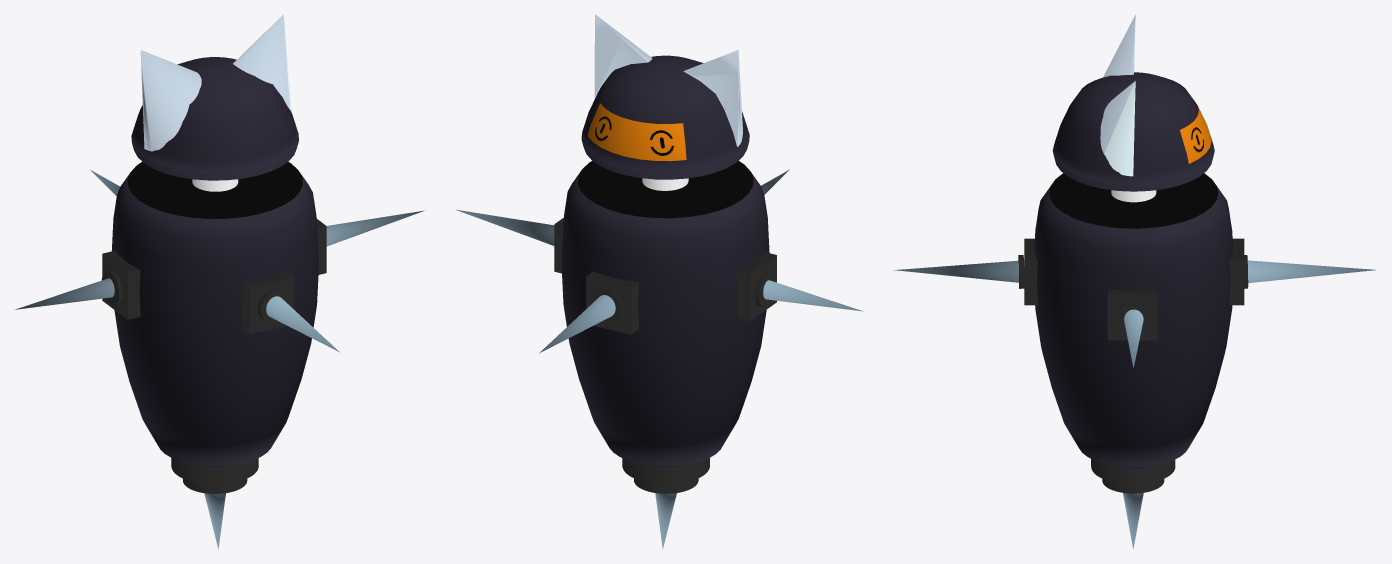
Rendered from Spear_Cat.fbx.
3 views of the same model, side by side, from view 1: azimuth 30°, elevation 25°; view 2: azimuth 150°, elevation 25°; view 3: azimuth 270°, elevation 25° (orthographic). The views are drawn at different scales.
Visible parts, largest first — view 1: Spear_Cat; view 2: Spear_Cat; view 3: Spear_Cat.
Part boxes in pixels (x1,y1,x2,y2): Spear_Cat: (14, 14, 424, 549); Spear_Cat: (456, 14, 863, 549); Spear_Cat: (893, 14, 1375, 548).
Bounding box in the file's own units: 455 × 550 × 483.
